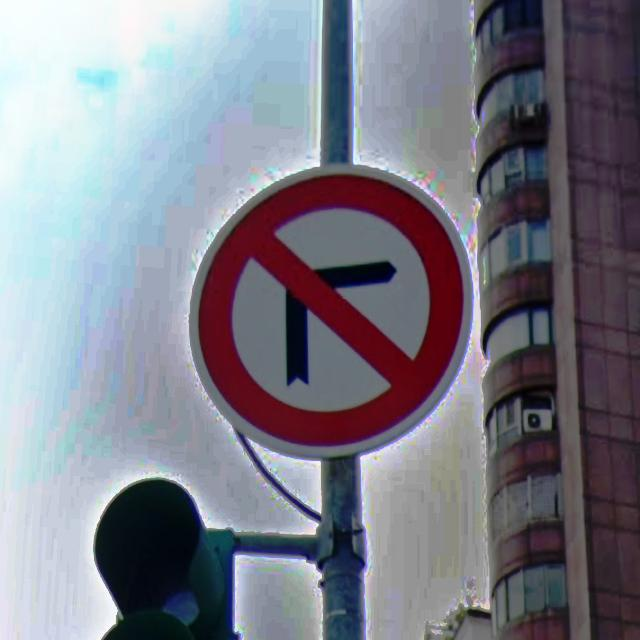noturnright: (198, 174, 464, 445)
